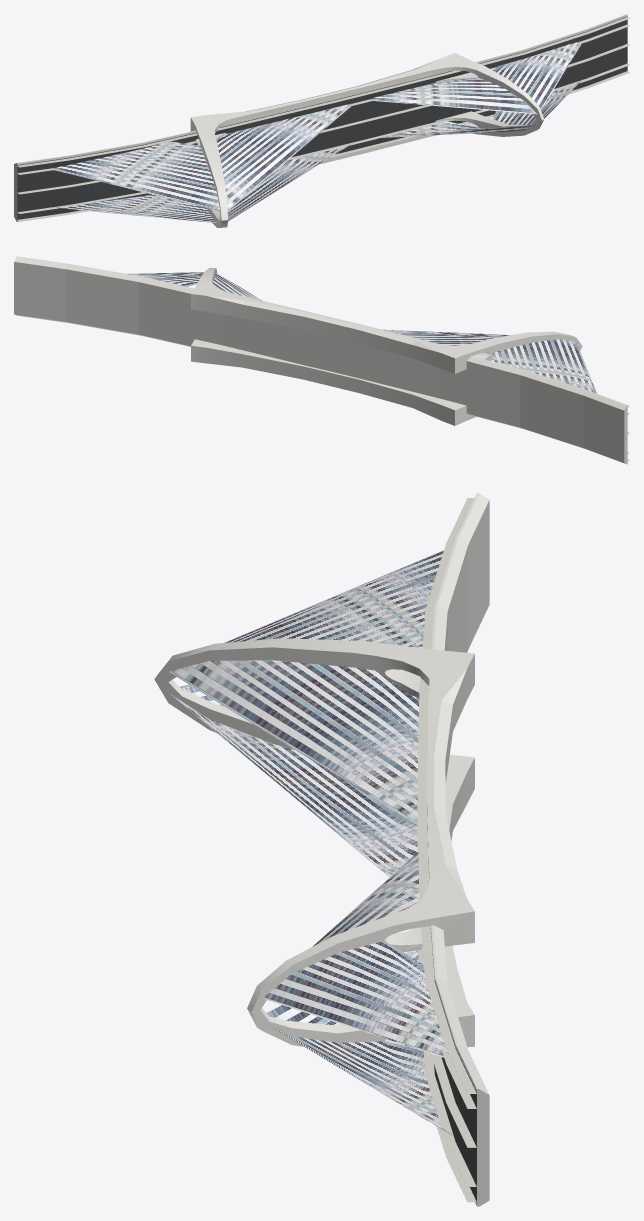
The model's file is xsgdq_001.gltf.
The picture shows the model from 3 angles, top to bottom: view 1: azimuth 30°, elevation 25°; view 2: azimuth 150°, elevation 25°; view 3: azimuth 270°, elevation 25°; orthographic projection. The views are drawn at different scales.
Visible parts, largest first — view 1: Cylinder001; view 2: Cylinder001; view 3: Cylinder001.
Part boxes in pixels (box(x1,y1,x2,y2)): Cylinder001: box(14, 14, 629, 227); Cylinder001: box(14, 256, 629, 464); Cylinder001: box(154, 493, 489, 1206).
Size of the model in its own units: 842 by 89.17 by 200.
Materials: 4 (4 with a texture image).
